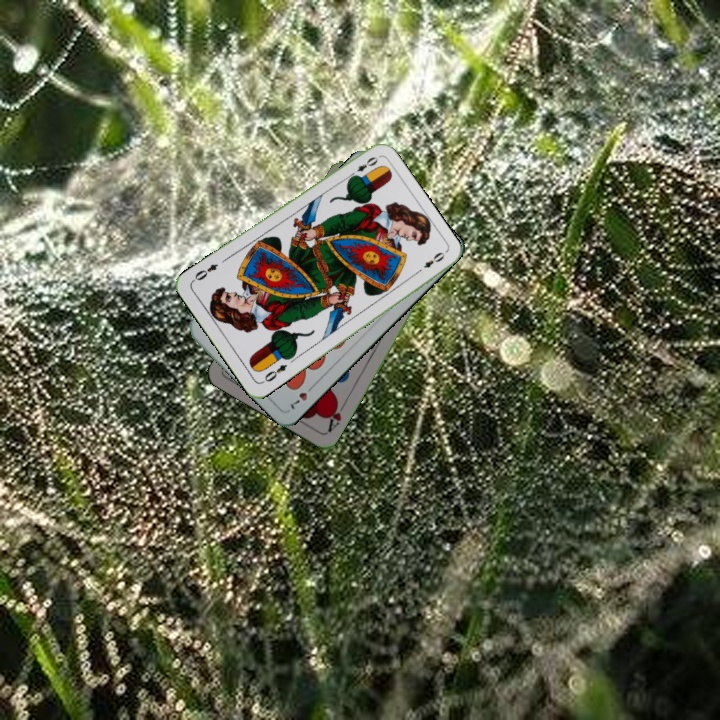EO: (345, 152, 381, 181), (258, 360, 290, 386)
H7: (286, 380, 317, 413)
HA: (323, 397, 349, 435)
